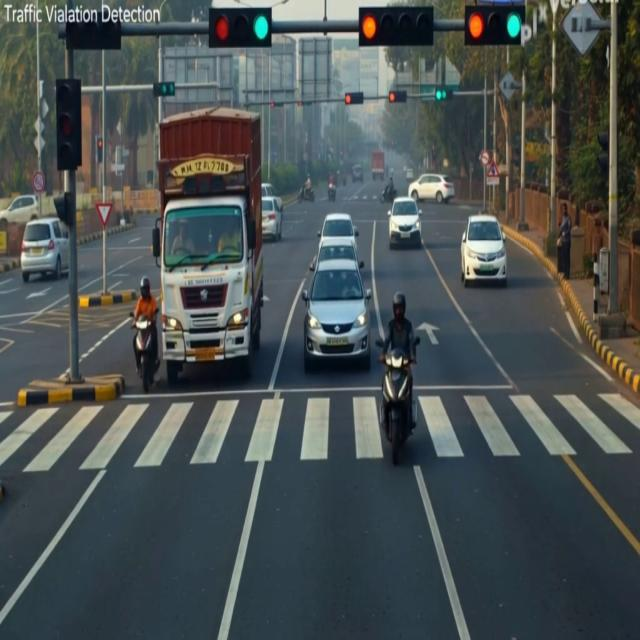car: (301, 260, 371, 372), (461, 215, 506, 287), (21, 217, 69, 282), (310, 238, 364, 271), (388, 197, 421, 248), (318, 213, 358, 249), (408, 174, 454, 203), (0, 195, 39, 223), (261, 197, 282, 240), (261, 184, 283, 210), (352, 165, 364, 183), (405, 168, 413, 182)
scooty: (379, 349, 417, 465), (132, 316, 158, 392), (380, 187, 396, 203), (298, 187, 314, 203), (328, 183, 336, 201), (342, 175, 346, 185)
traffic signal: (359, 7, 433, 47), (209, 8, 271, 48), (465, 5, 525, 46), (56, 79, 81, 171), (65, 15, 121, 50), (54, 192, 75, 227), (597, 131, 609, 173), (153, 82, 174, 97), (434, 88, 453, 101), (388, 91, 408, 103), (345, 92, 363, 105), (97, 137, 103, 163), (270, 102, 276, 109), (298, 102, 303, 106)
truck: (152, 108, 263, 384), (371, 150, 385, 181)
